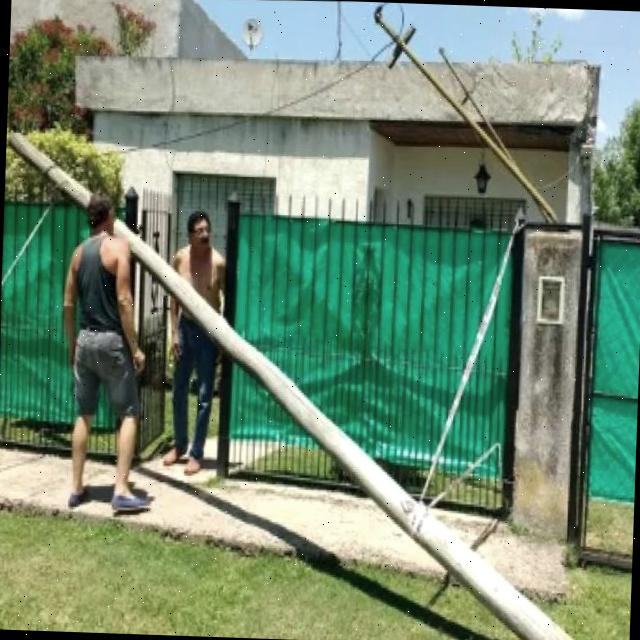Broken Pole: (8, 128, 575, 640)
